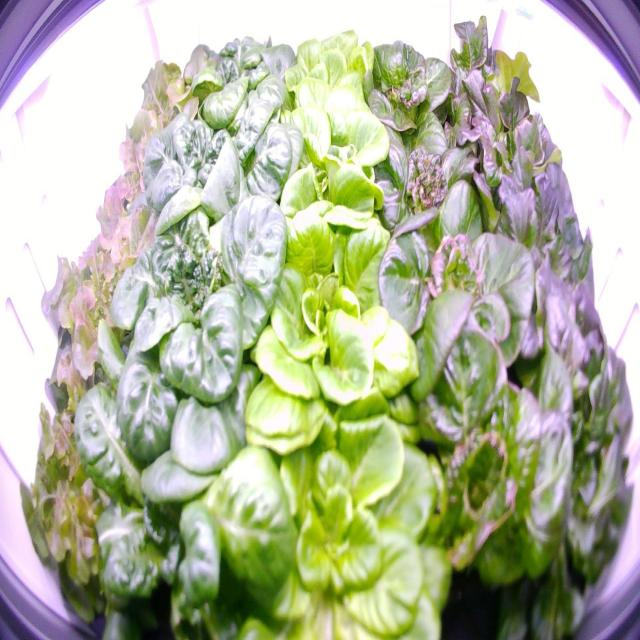Ready: (68, 315, 290, 635), (200, 368, 454, 638), (387, 305, 580, 617), (220, 200, 438, 457), (102, 137, 301, 418), (371, 175, 553, 388), (132, 85, 304, 240), (256, 90, 408, 253), (362, 105, 507, 255), (167, 23, 301, 158), (354, 36, 473, 162), (272, 19, 396, 128)
